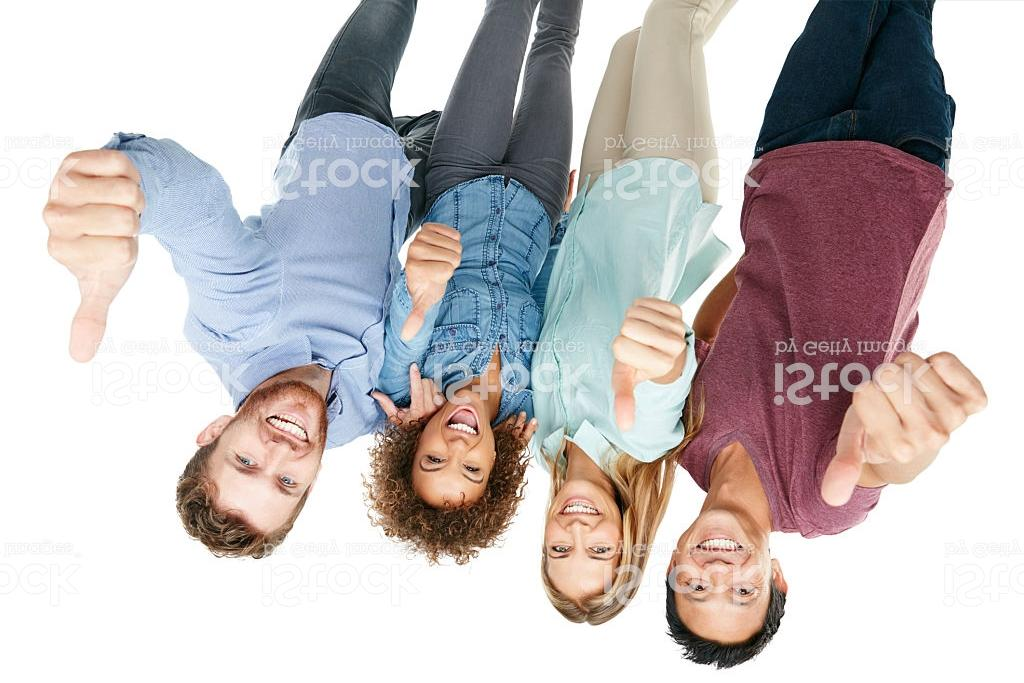thumbsdown: (819, 350, 989, 509), (38, 146, 150, 366), (608, 297, 688, 434), (398, 221, 465, 345)
